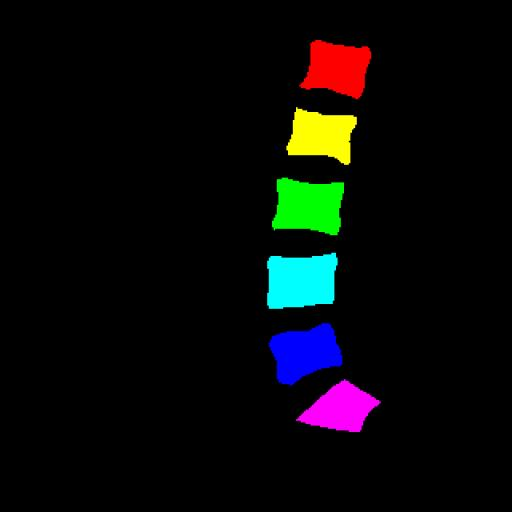L1: (300, 40, 371, 98)
L2: (286, 108, 357, 165)
L3: (272, 178, 344, 235)
L4: (267, 253, 338, 309)
L5: (268, 323, 343, 386)
S1: (297, 377, 380, 432)
